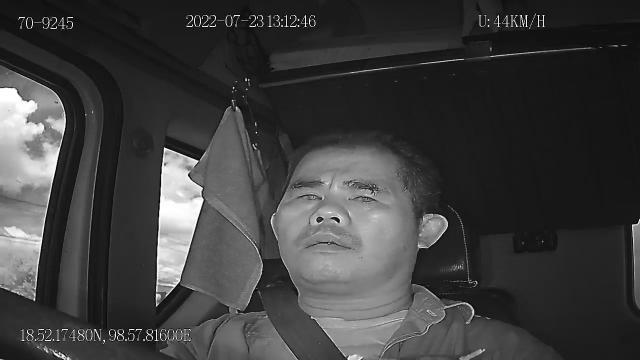SafeDriving: (340, 182, 384, 209), (286, 182, 326, 207)
Seatbelt: (256, 284, 350, 360)
